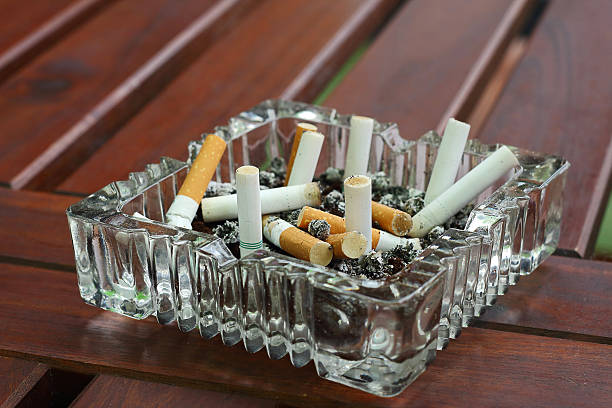cigarette: (407, 144, 521, 240), (165, 132, 227, 231), (296, 205, 419, 251), (200, 182, 322, 223), (424, 116, 472, 209), (261, 214, 334, 266), (235, 163, 264, 258), (342, 173, 374, 254), (283, 120, 319, 187), (287, 130, 327, 187), (343, 115, 375, 181), (329, 230, 368, 259)
